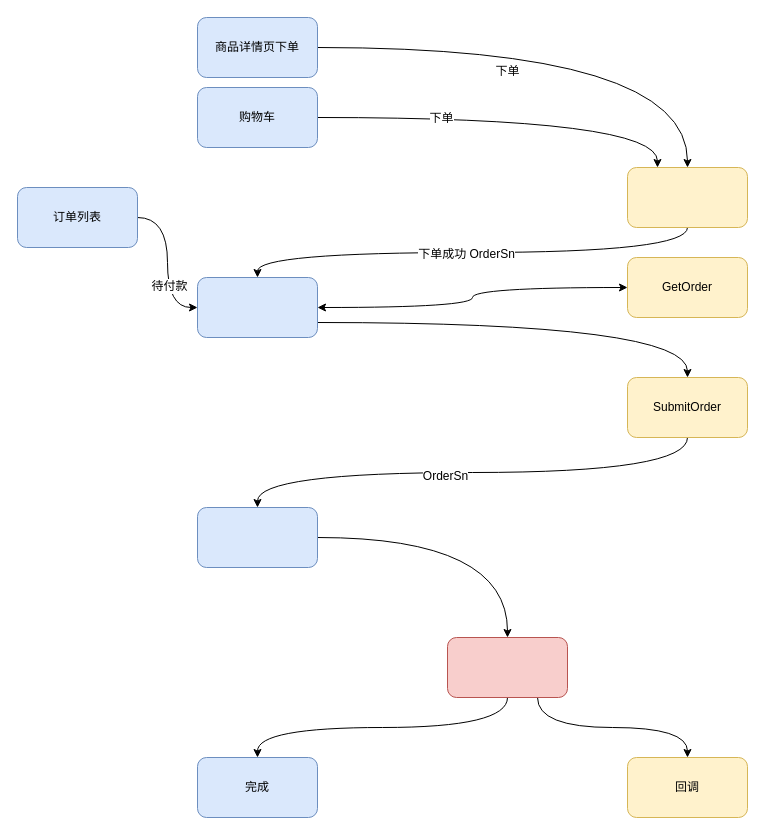
Image size: 765x835. Some labels were removed from this diagram. The shapes that lost their labels are listed below. From the top down, each one's centre as x and y in pixels, then its label:
point (687, 197): CreatOrder
point (257, 307): 待付款订单 选择地址
point (257, 537): 支付
point (507, 667): 执行支付
